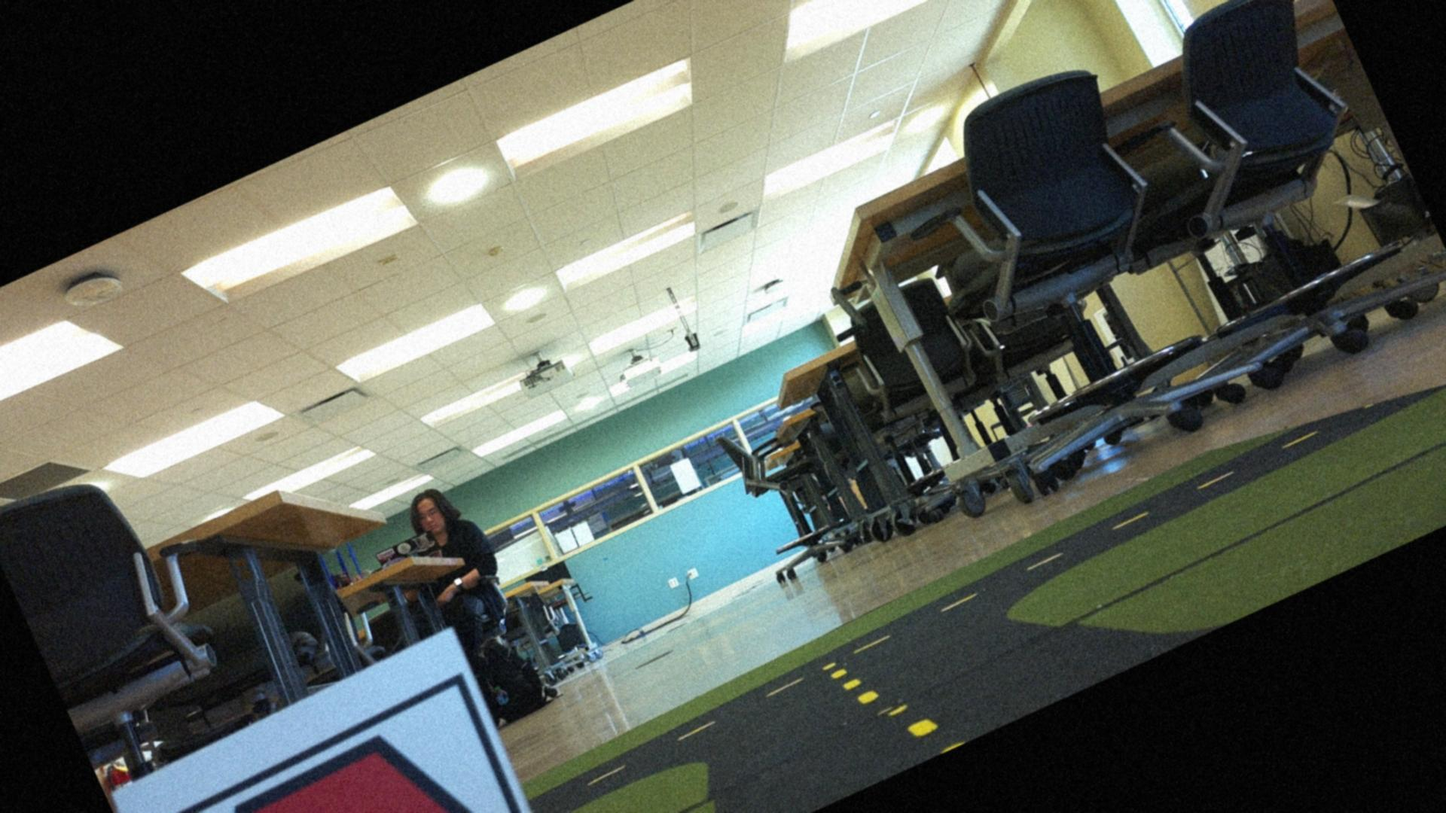stop: (149, 701, 548, 812)
yellowline: (831, 641, 937, 759)
